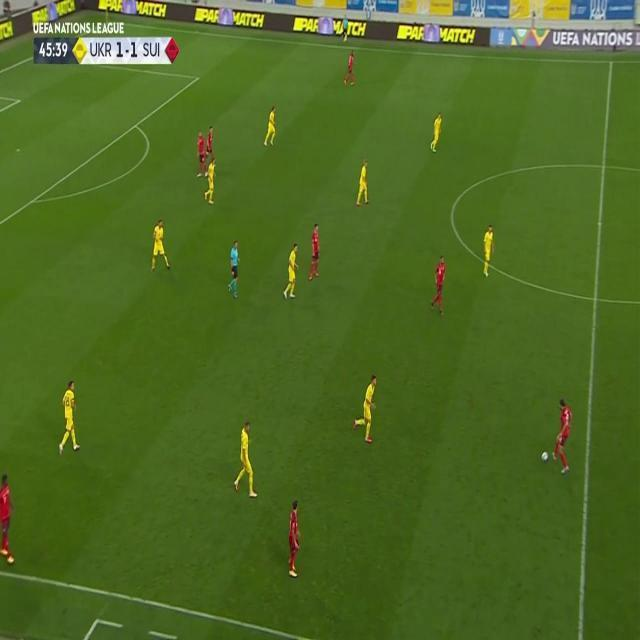ball: (541, 450, 549, 462)
player: (233, 419, 258, 498), (352, 374, 379, 444), (58, 379, 81, 455), (551, 397, 573, 474), (0, 471, 16, 565), (286, 498, 302, 578), (149, 217, 172, 272), (429, 253, 447, 316), (282, 242, 300, 301), (306, 221, 321, 281), (480, 222, 495, 278), (354, 158, 371, 207), (203, 157, 217, 207), (262, 104, 278, 147), (429, 110, 444, 153), (195, 129, 206, 178), (343, 48, 356, 87), (205, 125, 215, 164)
referee: (227, 238, 241, 297), (340, 14, 350, 44)
